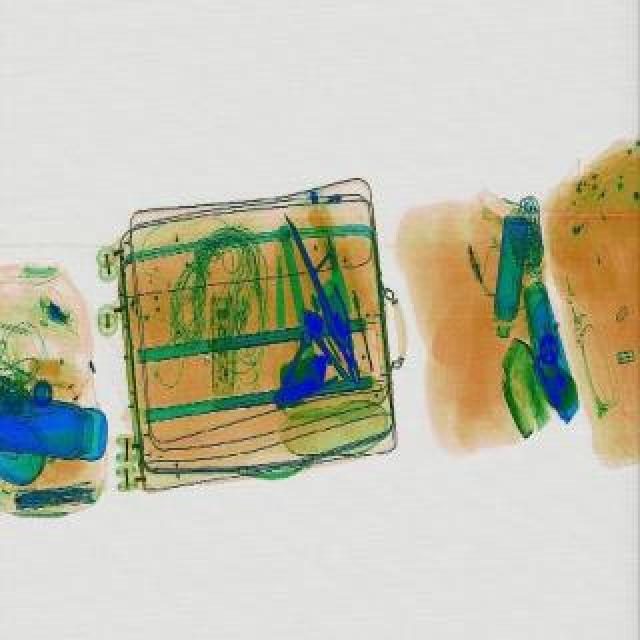scissors: (270, 328, 318, 412)
wrench: (314, 280, 372, 386)
